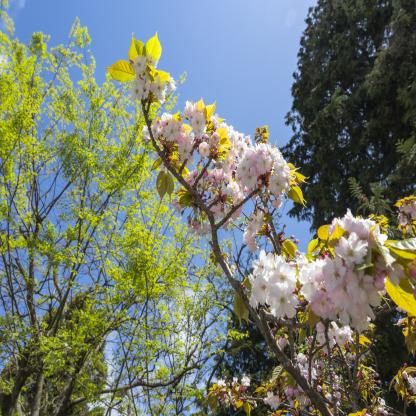YaeSakura: (114, 36, 415, 416)
